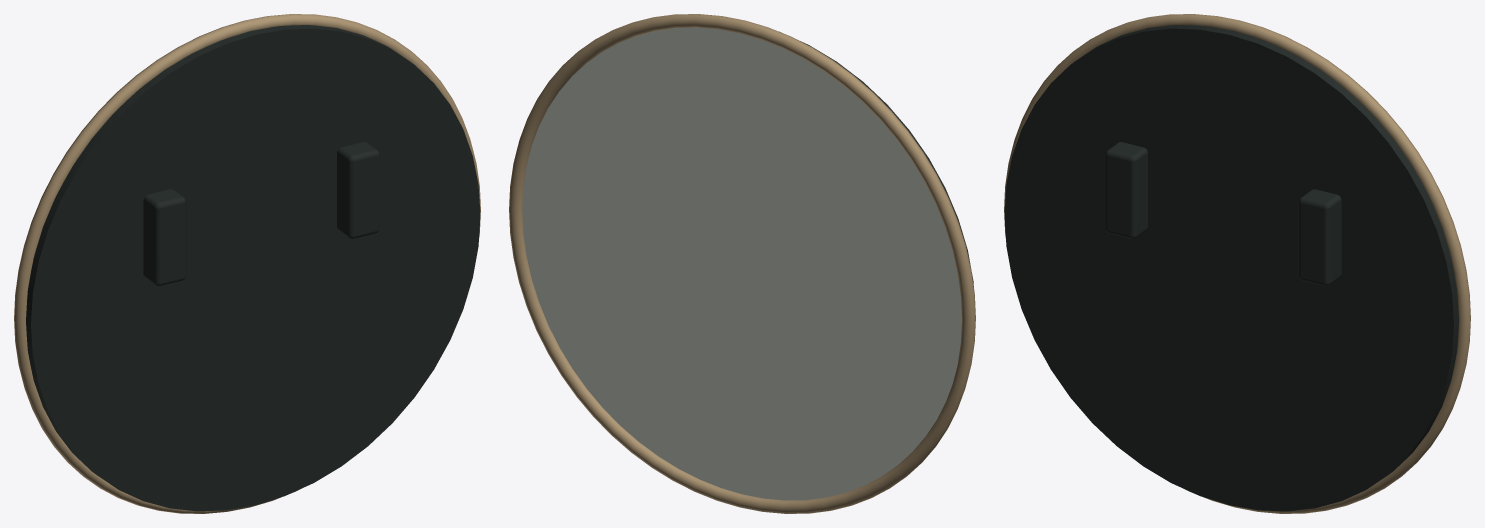
File: bath-round-mirror.glb
3 views of the same model, side by side, from view 1: azimuth 30°, elevation 25°; view 2: azimuth 150°, elevation 25°; view 3: azimuth 330°, elevation 25° (orthographic).
Visible parts, largest first — view 1: dark_surfaces, bronze_surfaces; view 2: mirror_surfaces, bronze_surfaces; view 3: dark_surfaces, bronze_surfaces.
Boxes of the visible parts, <box> form: dark_surfaces: <box>26,25,480,511</box>; bronze_surfaces: <box>14,14,480,513</box>; mirror_surfaces: <box>522,27,961,500</box>; bronze_surfaces: <box>509,14,975,513</box>; dark_surfaces: <box>1004,25,1458,511</box>; bronze_surfaces: <box>1004,14,1470,513</box>.
Bounding box in the file's own units: 0.818 × 0.818 × 0.077.
